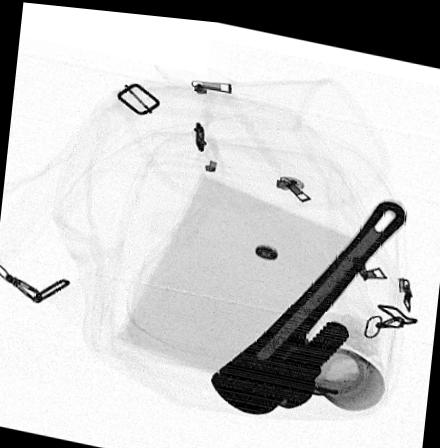Wrench: (207, 189, 406, 410)
